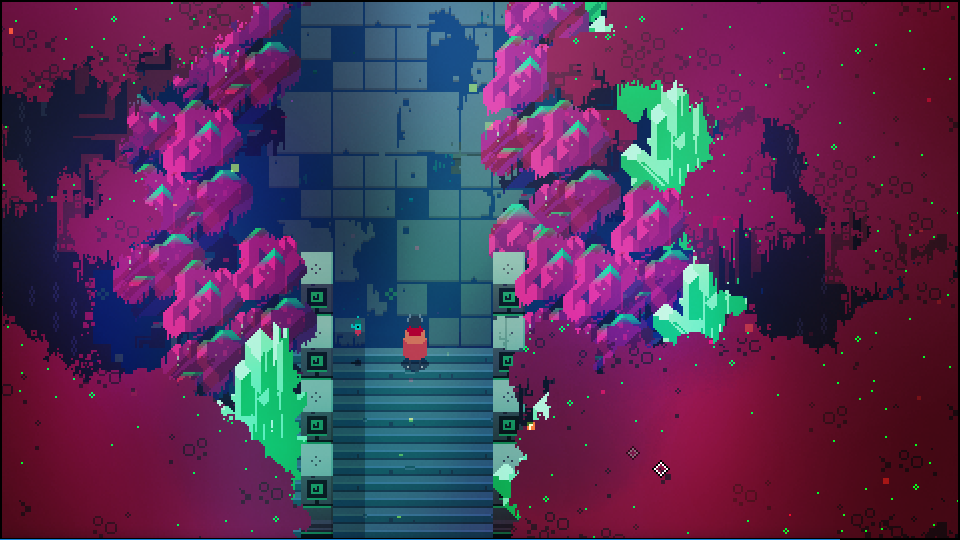player: (399, 313, 427, 369)
